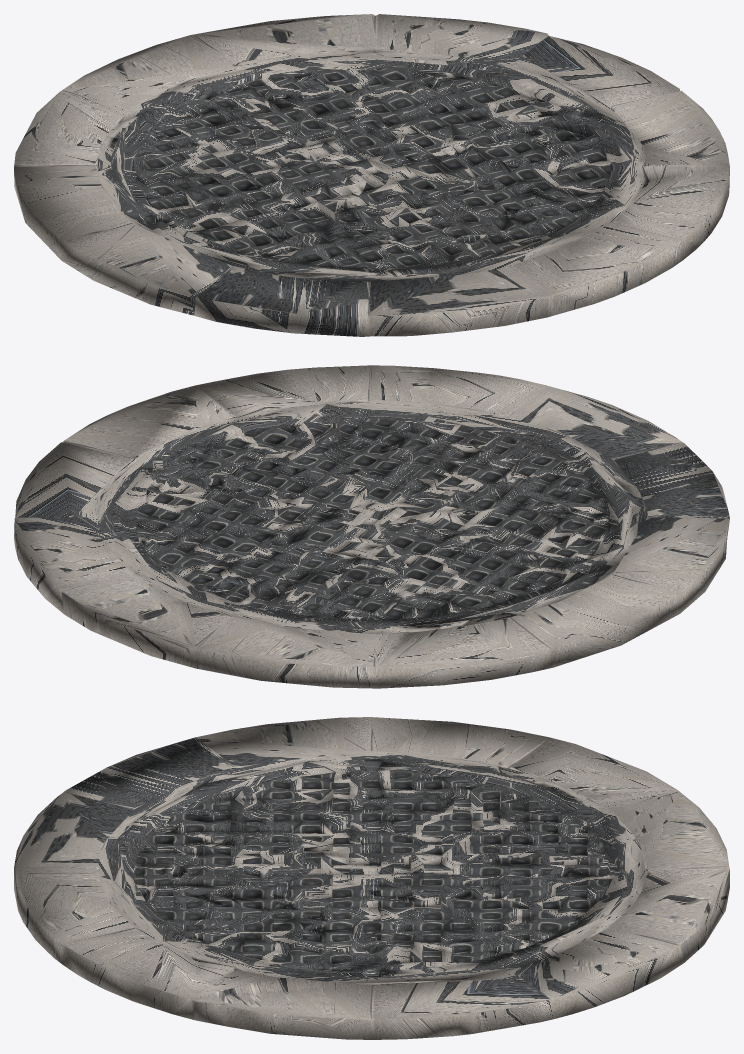
File: grate.glb
3 renders of one model, top to bottom at view 1: azimuth 30°, elevation 25°; view 2: azimuth 150°, elevation 25°; view 3: azimuth 270°, elevation 25°, orthographic.
Bounding box in the file's own units: 1.9 × 0.0636 × 1.9.
Materials: 1 (1 with a texture image).
